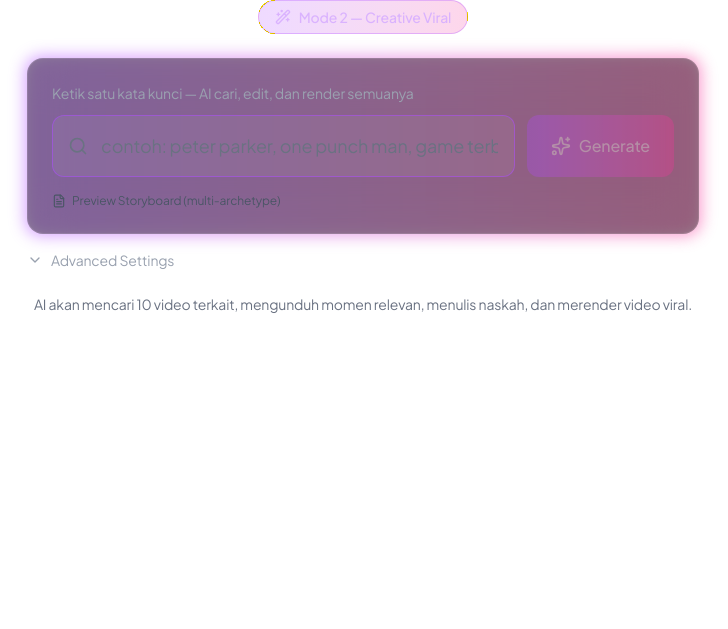
Test case: Mode2Console storyboard editing › renders storyboard clips with roles and thumbnails
Step 1. Type "saitama" into the field with placeholder "contoh: peter parker, one punch man, game terbaik..." → [283, 146], box left=52, top=115, right=515, bottom=177
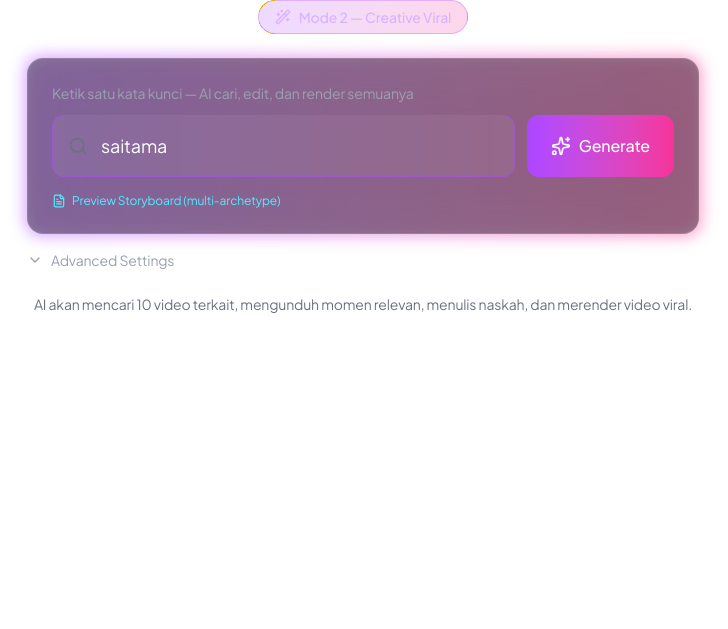
Step 2. Click the button "Preview Storyboard (multi-archetype)" → [166, 201], box left=52, top=193, right=280, bottom=209
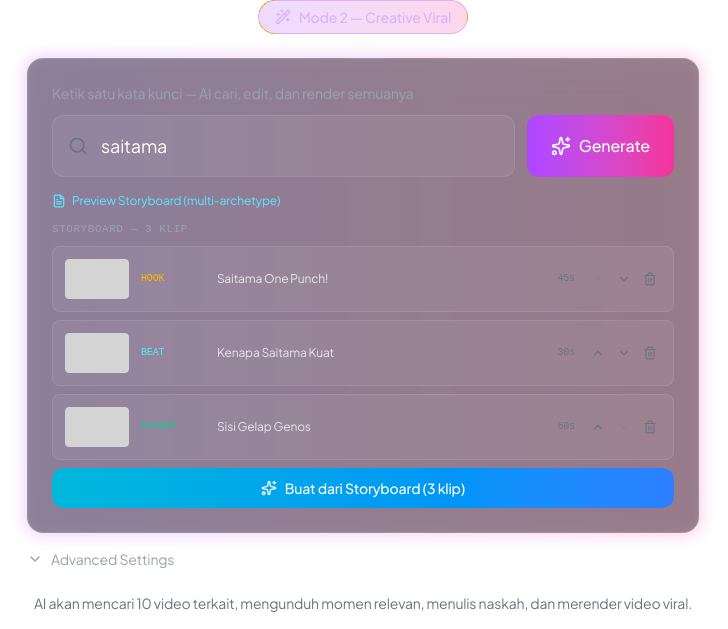
Expected: the text "hook" is shown 3 times, left=141, top=273, right=164, bottom=284; left=141, top=347, right=164, bottom=358; left=141, top=421, right=176, bottom=432
Expected: the text "Saitama One Punch!" is shown, left=217, top=270, right=328, bottom=286
